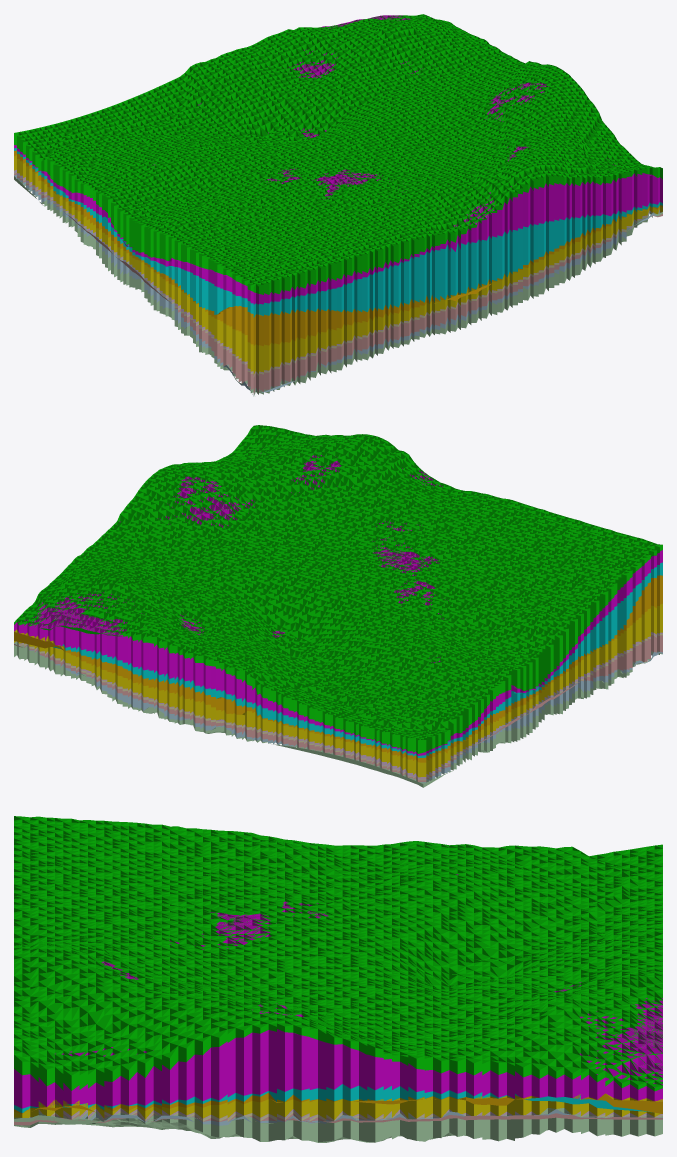
The model's file is 200_output_model_gpr_rf.glb.
3 renders of one model, top to bottom at view 1: azimuth 30°, elevation 25°; view 2: azimuth 150°, elevation 25°; view 3: azimuth 270°, elevation 25°, orthographic. The views are drawn at different scales.
Visible parts, largest first — view 1: L01_AeolianSand, L03_UpperSandstone, L02_Loess, L05_MiddleSandstone, L04_SandMudMix, L08_LowerSandstone1, L10_LowerSandstone2, L09_LowerSandMudMix, L07_Coal31, L06_RoofMudstone; view 2: L01_AeolianSand, L02_Loess, L05_MiddleSandstone, L03_UpperSandstone, L04_SandMudMix, L10_LowerSandstone2, L08_LowerSandstone1, L09_LowerSandMudMix, L06_RoofMudstone, L07_Coal31; view 3: L01_AeolianSand, L02_Loess, L10_LowerSandstone2, L05_MiddleSandstone, L03_UpperSandstone, L04_SandMudMix, L08_LowerSandstone1, L09_LowerSandMudMix, L06_RoofMudstone, L07_Coal31.
Part boxes in pixels (<box>): L01_AeolianSand: <box>14,14,662,294</box>; L03_UpperSandstone: <box>14,148,662,317</box>; L02_Loess: <box>14,15,662,304</box>; L05_MiddleSandstone: <box>14,155,662,374</box>; L04_SandMudMix: <box>14,150,662,346</box>; L08_LowerSandstone1: <box>14,173,662,394</box>; L10_LowerSandstone2: <box>14,176,662,395</box>; L09_LowerSandMudMix: <box>14,174,656,395</box>; L07_Coal31: <box>14,172,660,377</box>; L06_RoofMudstone: <box>14,169,660,375</box>; L01_AeolianSand: <box>14,425,662,753</box>; L02_Loess: <box>14,435,662,755</box>; L05_MiddleSandstone: <box>14,603,662,777</box>; L03_UpperSandstone: <box>53,562,662,757</box>; L04_SandMudMix: <box>14,575,662,762</box>; L10_LowerSandstone2: <box>14,641,662,787</box>; L08_LowerSandstone1: <box>14,634,662,781</box>; L09_LowerSandMudMix: <box>14,643,662,783</box>; L06_RoofMudstone: <box>17,632,662,779</box>; L07_Coal31: <box>14,634,662,780</box>; L01_AeolianSand: <box>14,816,662,1091</box>; L02_Loess: <box>14,874,662,1108</box>; L10_LowerSandstone2: <box>14,1108,662,1142</box>; L05_MiddleSandstone: <box>14,1094,662,1119</box>; L03_UpperSandstone: <box>14,1084,651,1112</box>; L04_SandMudMix: <box>14,1092,662,1113</box>; L08_LowerSandstone1: <box>14,1111,662,1125</box>; L09_LowerSandMudMix: <box>41,1108,662,1125</box>; L06_RoofMudstone: <box>29,1108,662,1120</box>; L07_Coal31: <box>30,1110,662,1121</box>.
Bounding box in the file's own units: 12176 × 4390 × 12352.
